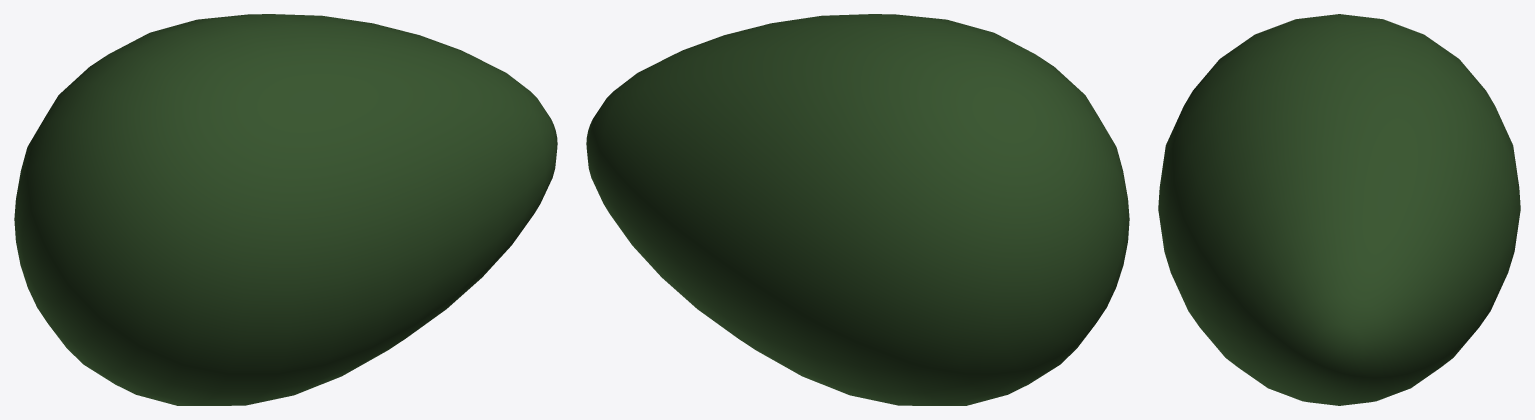
Rendered from Avocado.fbx.
3 views of the same model, side by side, from view 1: azimuth 30°, elevation 25°; view 2: azimuth 150°, elevation 25°; view 3: azimuth 270°, elevation 25° (orthographic). The views are drawn at different scales.
Parts seen in each view (by area): view 1: Avocado; view 2: Avocado; view 3: Avocado.
Part boxes in pixels (x1,y1,x2,y2): Avocado: [14, 14, 557, 405]; Avocado: [586, 14, 1129, 405]; Avocado: [1158, 14, 1520, 405].
Bounding box in the file's own units: 0.11 × 0.0727 × 0.0727.
